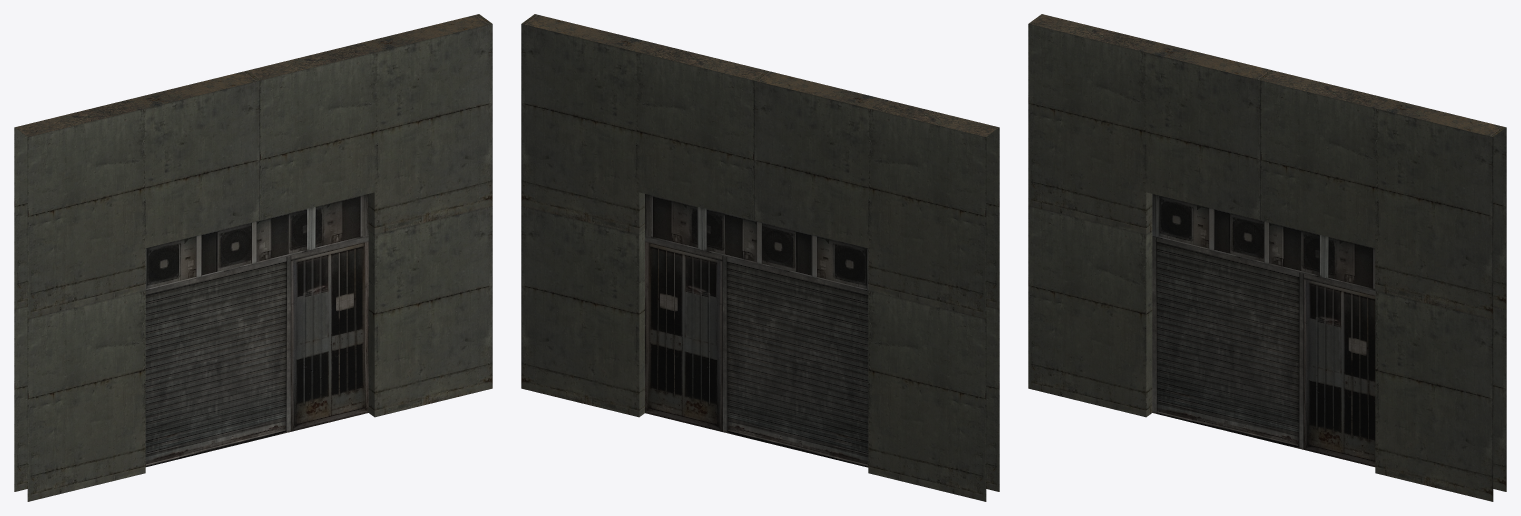
File: garage_door_frame_rg_1.dae
The picture shows the model from 3 angles, left to right: view 1: azimuth 30°, elevation 25°; view 2: azimuth 150°, elevation 25°; view 3: azimuth 330°, elevation 25°; orthographic projection.
Visible parts, largest first — view 1: garage_door_frame_rg_1, garage_door_hr_1; view 2: garage_door_frame_rg_1, garage_door_hr_1; view 3: garage_door_frame_rg_1, garage_door_hr_1.
Boxes of the visible parts, <box> form: garage_door_frame_rg_1: <box>14,14,492,501</box>; garage_door_hr_1: <box>145,194,368,466</box>; garage_door_frame_rg_1: <box>521,14,999,501</box>; garage_door_hr_1: <box>645,194,868,467</box>; garage_door_frame_rg_1: <box>1028,14,1506,501</box>; garage_door_hr_1: <box>1152,194,1375,466</box>.
Bounding box in the file's own units: 8 × 0.4 × 6.
3 materials, 3 textured.
